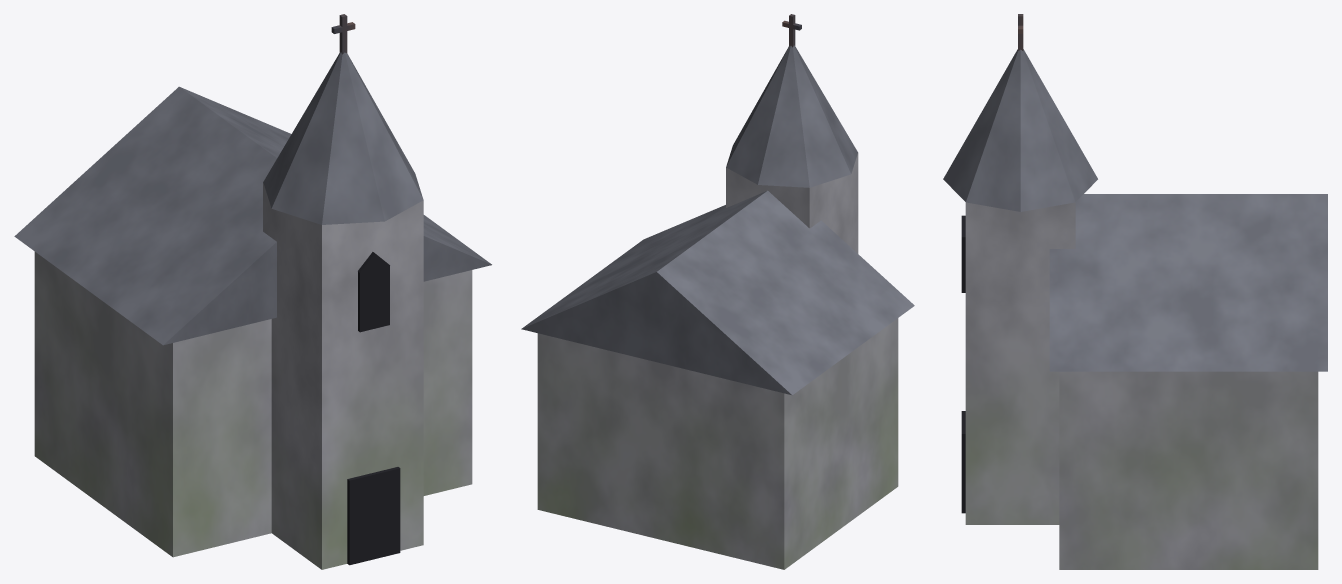
The model's file is Chapel.fbx.
3 renders of one model, left to right at view 1: azimuth 30°, elevation 25°; view 2: azimuth 150°, elevation 25°; view 3: azimuth 270°, elevation 25°, orthographic. The views are drawn at different scales.
Parts seen in each view (by area): view 1: Chapel; view 2: Chapel; view 3: Chapel.
Part boxes in pixels (bbox=[...]): Chapel: bbox=[14, 14, 491, 569]; Chapel: bbox=[521, 14, 914, 569]; Chapel: bbox=[943, 14, 1327, 569].
Size of the model in its own units: 11 by 16.6 by 11.9.
Materials: 1 (1 with a texture image).
